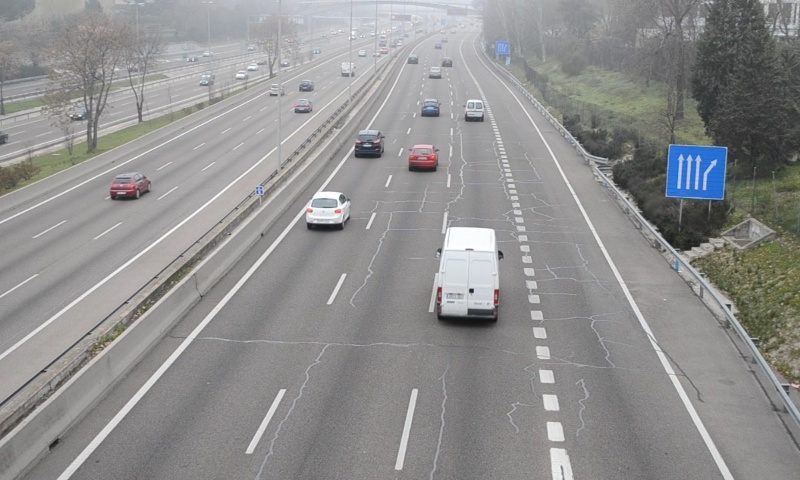car: (306, 192, 349, 224), (354, 129, 383, 156), (408, 144, 438, 170), (421, 98, 440, 117)
van: (436, 227, 500, 320), (464, 98, 486, 123)
